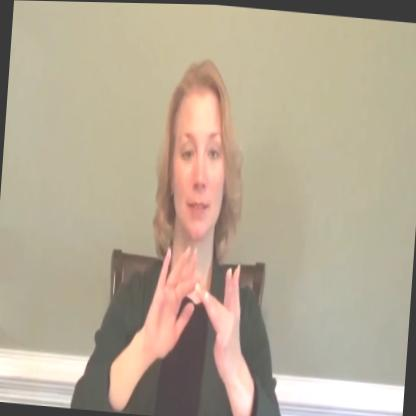Internet: (144, 227, 258, 377)
